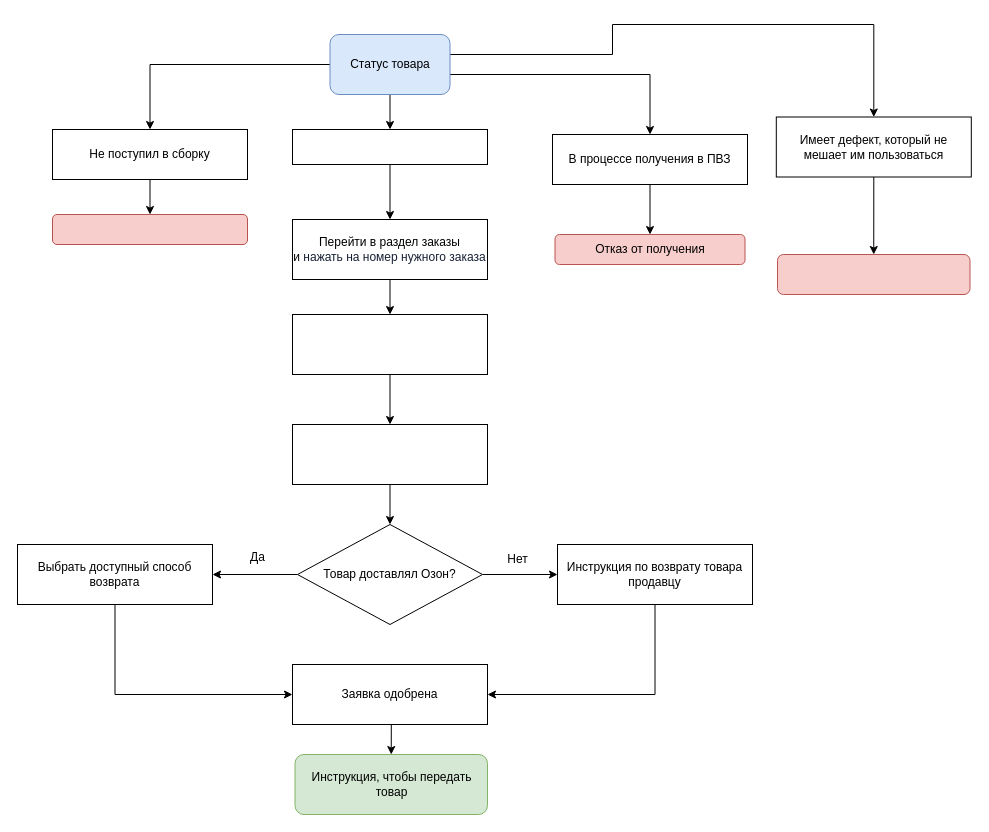
This 989x832 diagram has some shape labels left out. The centre of each missing label's shape, as x and y in pixels:
Заполнить заявку на возврат: point (390, 454)
Нажать "Вернуть товары" и выбрать нужные: point (390, 344)
Отменить заказ: point (150, 229)
Товар получен: point (390, 146)
Частичная компенсация: point (873, 274)
